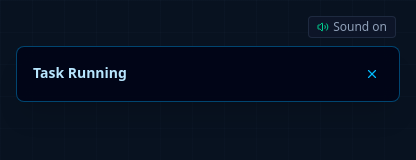
ToastViewport › provides accessible sound toggle control
The width and height of the screenshot is (416, 160).
Expected: the text "Sound on" is shown, 333,19 -> 387,35
Click the button with aria-label "sound cues" at (352, 27), box 308,16 -> 396,38
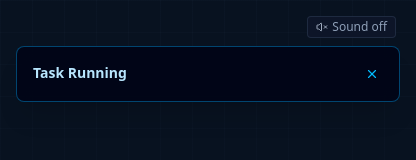
Result: the text "Sound off" is shown at 332,19 -> 387,35
